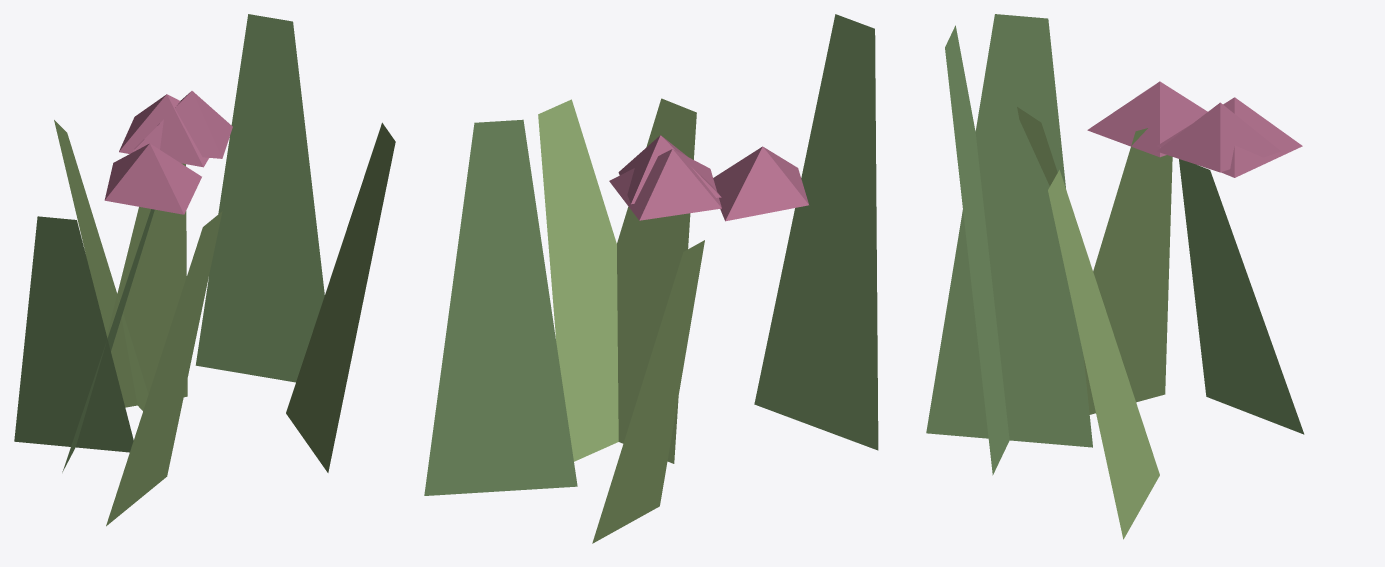
File: shrub.temp.fern__bloom.glb
The picture shows the model from 3 angles, left to right: view 1: azimuth 30°, elevation 25°; view 2: azimuth 150°, elevation 25°; view 3: azimuth 270°, elevation 25°; orthographic projection. The views are drawn at different scales.
Visible parts, largest first — view 1: shrub.temp.fern__bloom; view 2: shrub.temp.fern__bloom; view 3: shrub.temp.fern__bloom.
Boxes of the visible parts, x1=… form: shrub.temp.fern__bloom: x1=14, y1=14, x2=395, y2=526; shrub.temp.fern__bloom: x1=424, y1=14, x2=878, y2=543; shrub.temp.fern__bloom: x1=926, y1=14, x2=1304, y2=539.
Bounding box in the file's own units: 0.909 × 0.9974 × 1.01.
